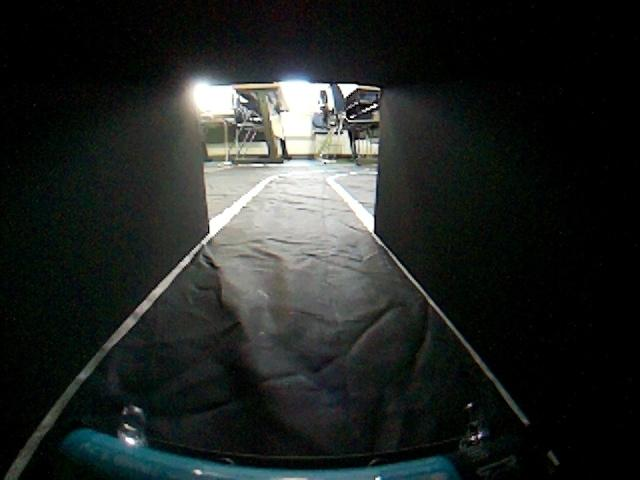straight: (22, 173, 640, 480)
